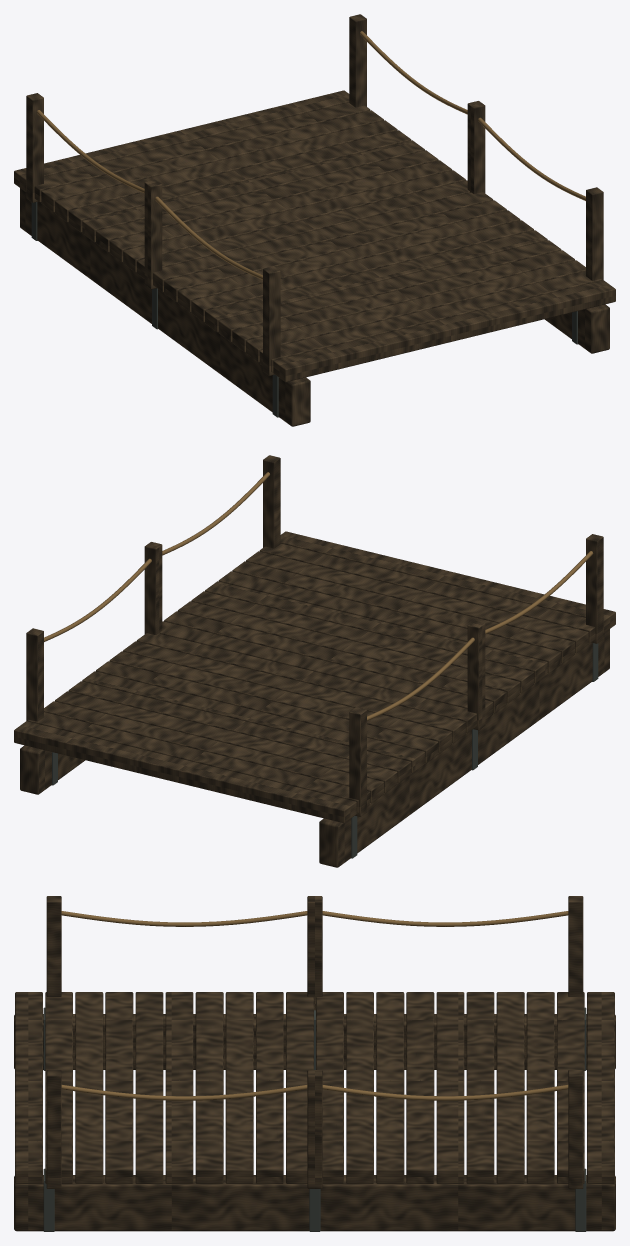
File: C05_rope_bridge.gltf
3 renders of one model, top to bottom at view 1: azimuth 30°, elevation 25°; view 2: azimuth 150°, elevation 25°; view 3: azimuth 270°, elevation 25°, orthographic. The views are drawn at different scales.
Parts seen in each view (by area): view 1: Bridge oak beam, Crosswise bridge plank.019, Crosswise bridge plank.002, Crosswise bridge plank.011, Crosswise bridge plank.010, Crosswise bridge plank.003, Crosswise bridge plank.004, Crosswise bridge plank.015, Crosswise bridge plank.013, Crosswise bridge plank.014, Crosswise bridge plank.016, Crosswise bridge plank.017 (+18 smaller); view 2: Bridge oak beam, Crosswise bridge plank, Crosswise bridge plank.017, Crosswise bridge plank.008, Crosswise bridge plank.009, Crosswise bridge plank.016, Crosswise bridge plank.015, Crosswise bridge plank.004, Crosswise bridge plank.005, Crosswise bridge plank.006, Crosswise bridge plank.003, Crosswise bridge plank.002 (+18 smaller); view 3: Bridge oak beam.001, Crosswise bridge plank.005, Crosswise bridge plank.014, Crosswise bridge plank.007, Crosswise bridge plank.012, Crosswise bridge plank.002, Crosswise bridge plank.003, Crosswise bridge plank.016, Crosswise bridge plank.017, Crosswise bridge plank.004, Crosswise bridge plank.015, Crosswise bridge plank.006 (+21 smaller).
Boxes of the visible parts, <box> form: Bridge oak beam: <box>20,188,310,426</box>; Crosswise bridge plank.019: <box>273,280,615,382</box>; Crosswise bridge plank.002: <box>41,110,383,212</box>; Crosswise bridge plank.011: <box>164,200,506,302</box>; Crosswise bridge plank.010: <box>153,192,492,292</box>; Crosswise bridge plank.003: <box>55,120,397,222</box>; Crosswise bridge plank.004: <box>68,130,411,232</box>; Crosswise bridge plank.015: <box>218,240,561,342</box>; Crosswise bridge plank.013: <box>191,220,533,322</box>; Crosswise bridge plank.014: <box>205,230,547,332</box>; Crosswise bridge plank.016: <box>232,250,574,352</box>; Crosswise bridge plank.017: <box>246,260,585,362</box>; Bridge oak beam: <box>319,629,609,867</box>; Crosswise bridge plank: <box>14,721,356,823</box>; Crosswise bridge plank.017: <box>246,551,588,653</box>; Crosswise bridge plank.008: <box>123,641,465,743</box>; Crosswise bridge plank.009: <box>137,633,476,733</box>; Crosswise bridge plank.016: <box>232,561,574,663</box>; Crosswise bridge plank.015: <box>218,571,561,673</box>; Crosswise bridge plank.004: <box>68,681,411,783</box>; Crosswise bridge plank.005: <box>82,671,424,773</box>; Crosswise bridge plank.006: <box>96,661,438,763</box>; Crosswise bridge plank.003: <box>55,691,397,793</box>; Crosswise bridge plank.002: <box>44,701,383,803</box>; Bridge oak beam.001: <box>14,1175,615,1231</box>; Crosswise bridge plank.005: <box>436,992,464,1183</box>; Crosswise bridge plank.014: <box>165,992,193,1183</box>; Crosswise bridge plank.007: <box>376,992,404,1183</box>; Crosswise bridge plank.012: <box>225,992,253,1183</box>; Crosswise bridge plank.002: <box>526,992,554,1183</box>; Crosswise bridge plank.003: <box>496,992,524,1183</box>; Crosswise bridge plank.016: <box>105,992,133,1183</box>; Crosswise bridge plank.017: <box>75,992,103,1183</box>; Crosswise bridge plank.004: <box>466,992,494,1183</box>; Crosswise bridge plank.015: <box>135,992,163,1183</box>; Crosswise bridge plank.006: <box>406,992,434,1183</box>.
Bounding box in the file's own units: 4.25 × 1.76 × 6.
Materials: 3 (1 with a texture image).
